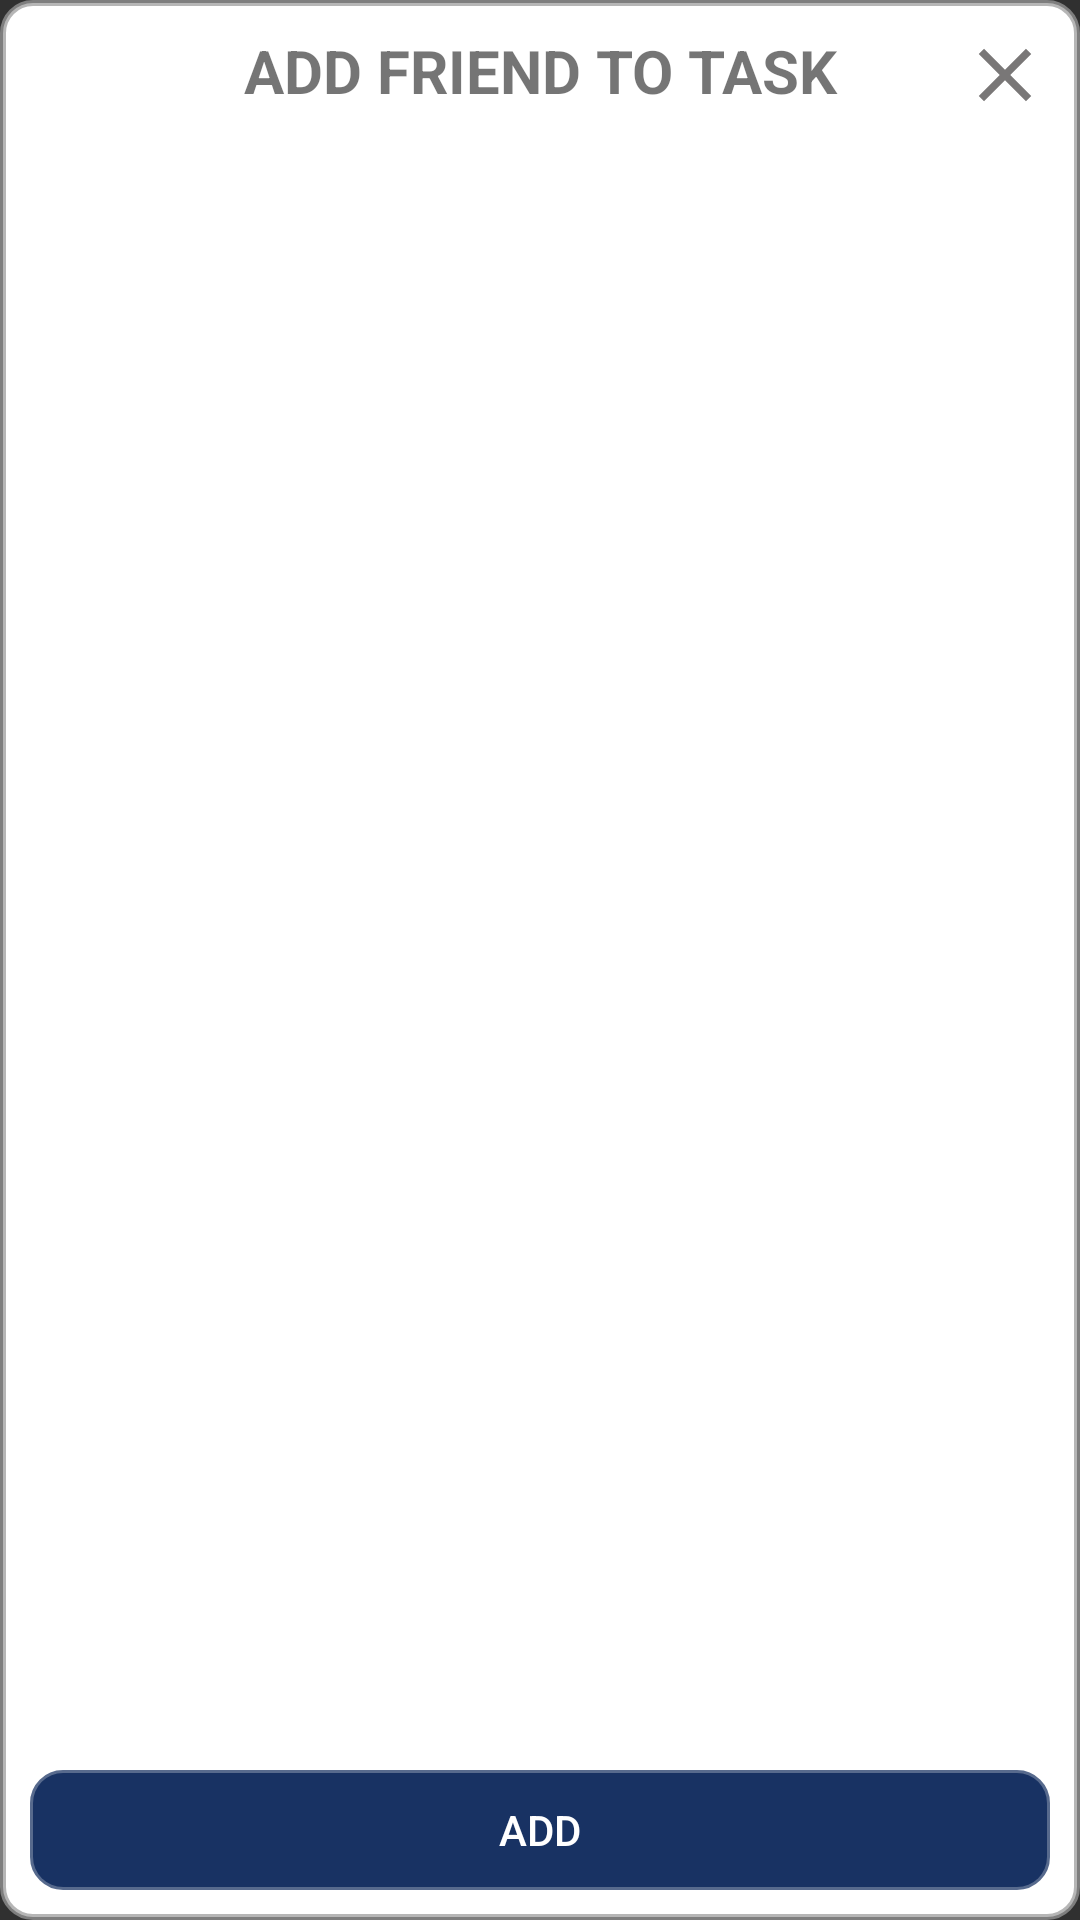

Icons on this 1080 × 1920 Android screen, each with its box as bbox(x1, y1, x2, y2):
close: bbox(979, 49, 1031, 101)
